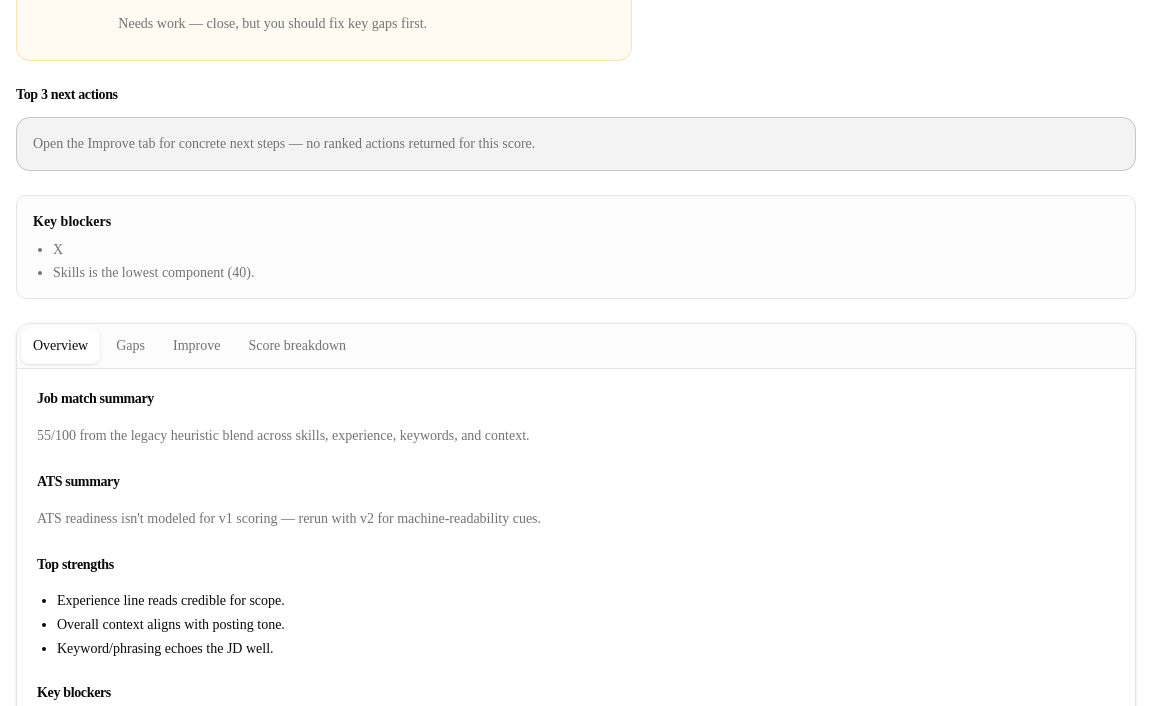
Scenario: StepOneMatchCard › Score breakdown lists v1 dimension labels inside progressbars
(page scrolled)
Expected: the text "Needs work — close, but you should fix key gaps first." is shown, [118,16,427,31]
Click the tab "Score breakdown".
click(297, 346)  # box [236,328,358,364]
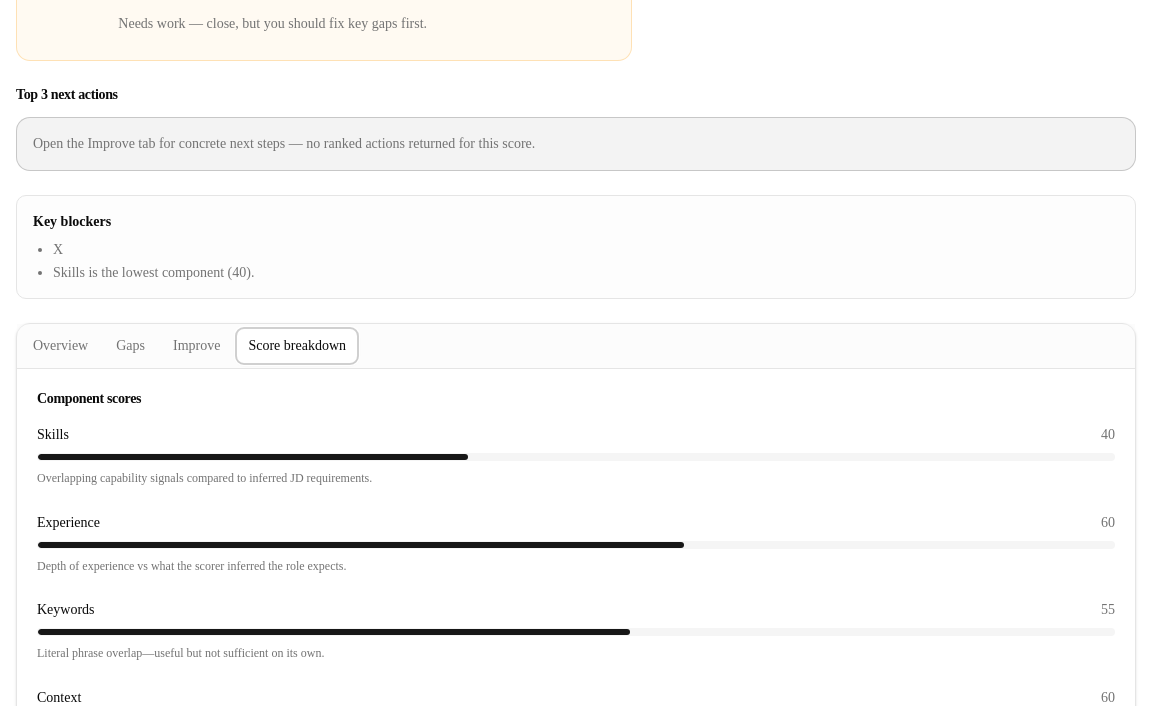
Expected: the progress indicator named "skills score" is shown, [37,453,1115,461]
Expected: the progress indicator named "keywords score" is shown, [37,628,1115,636]
